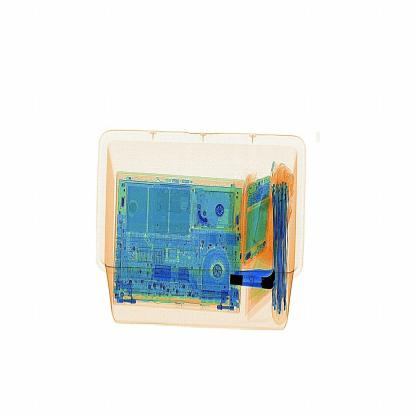knife: (226, 263, 282, 294)
